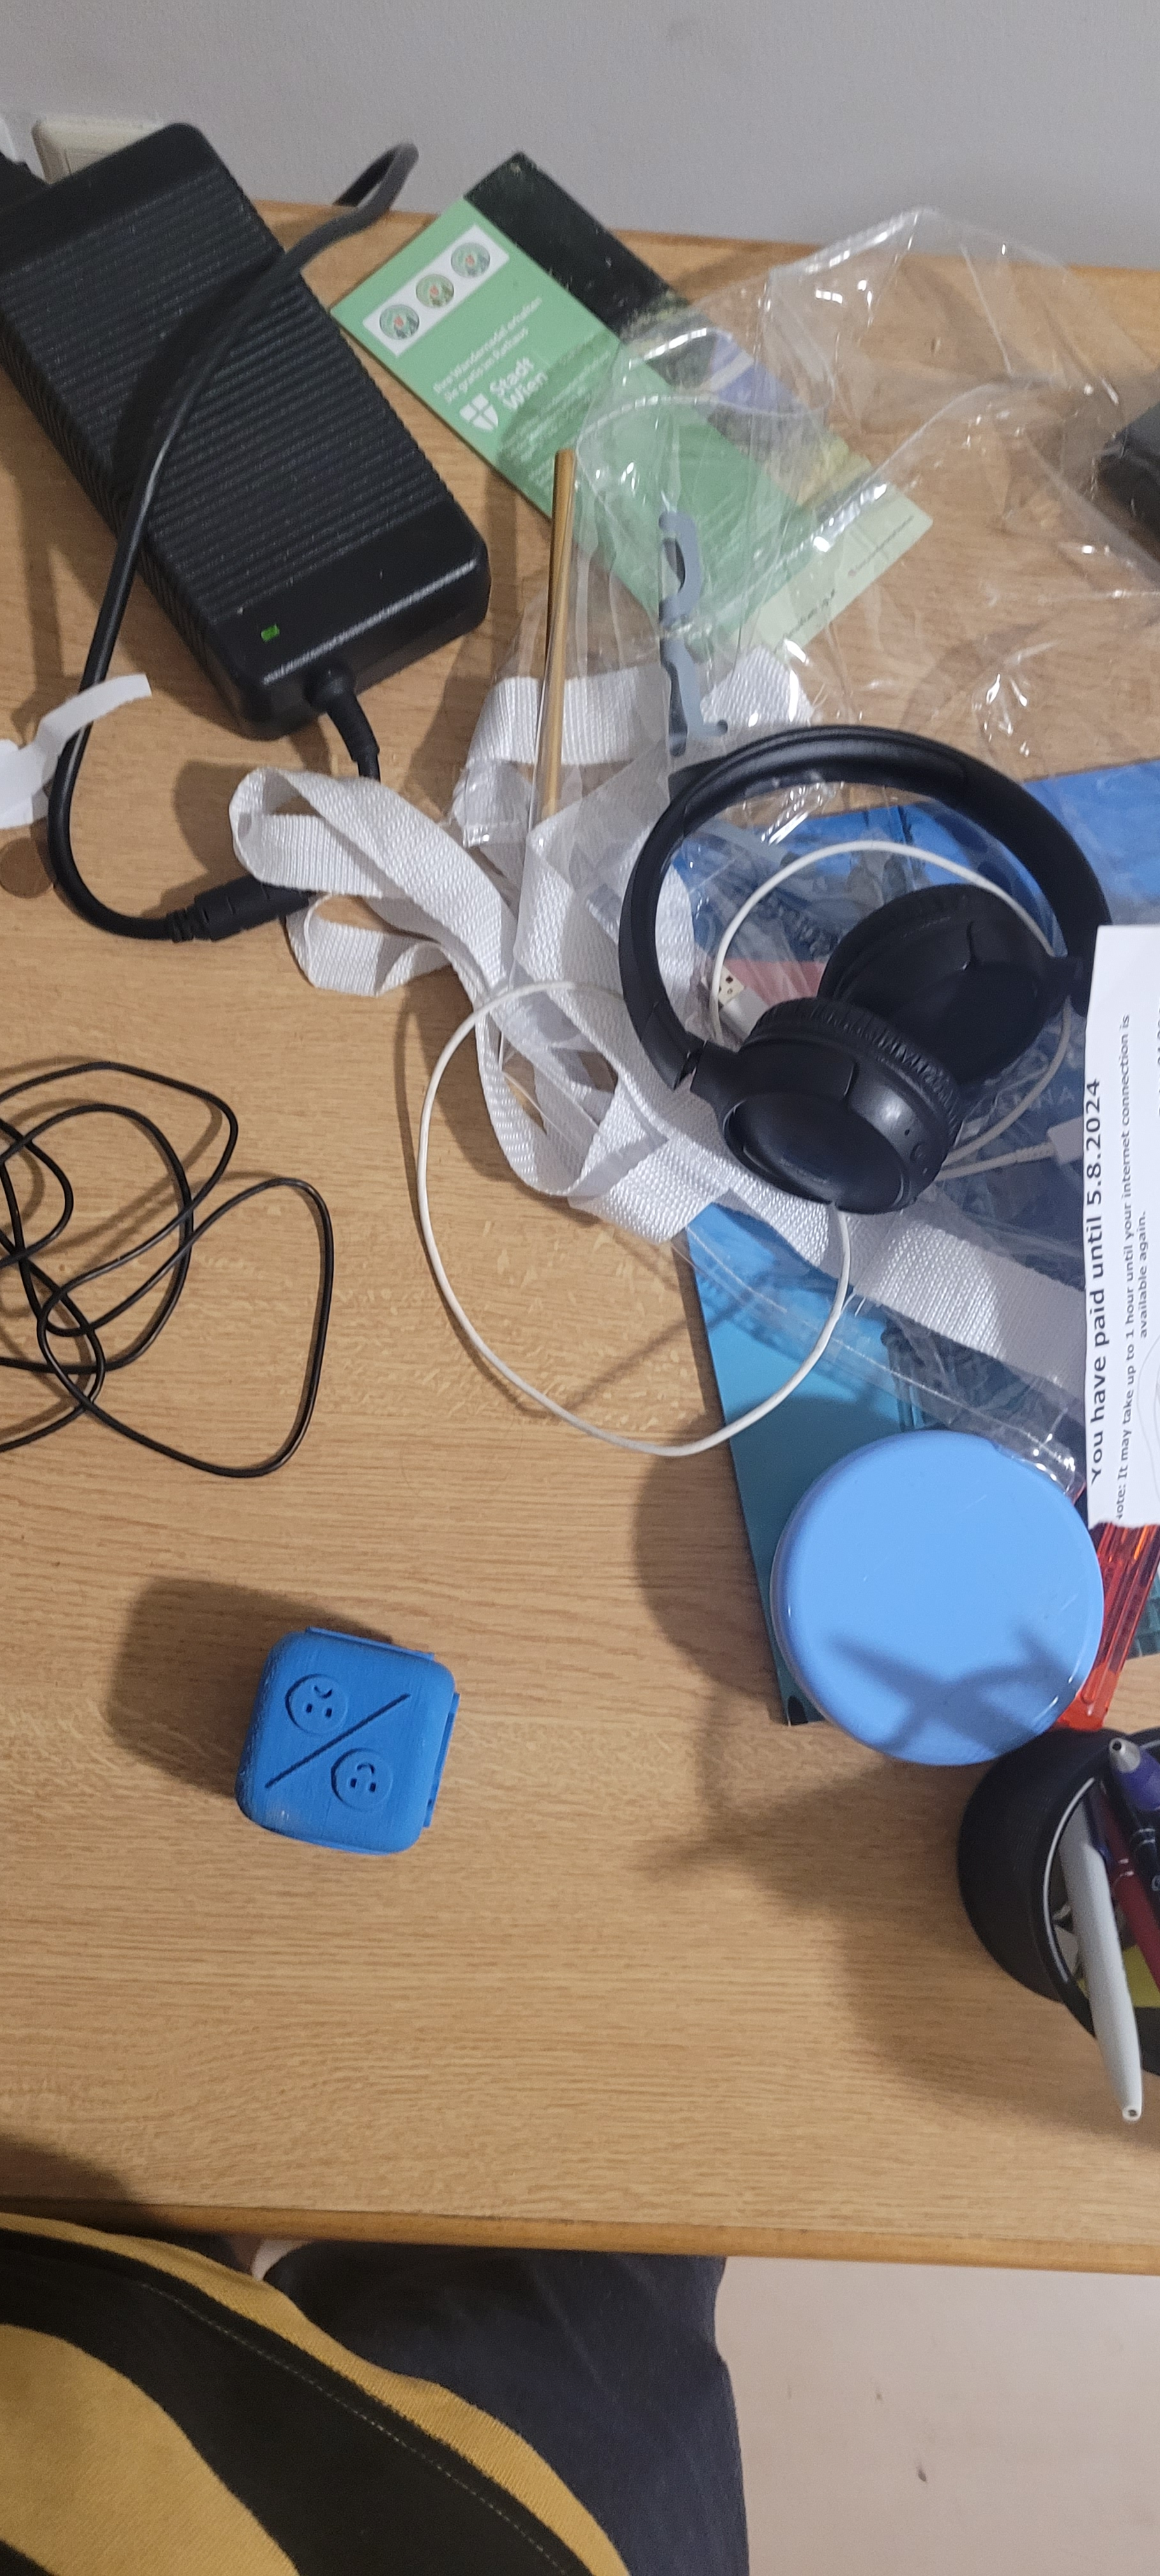Like/Dislike: (261, 1607, 430, 1848)
